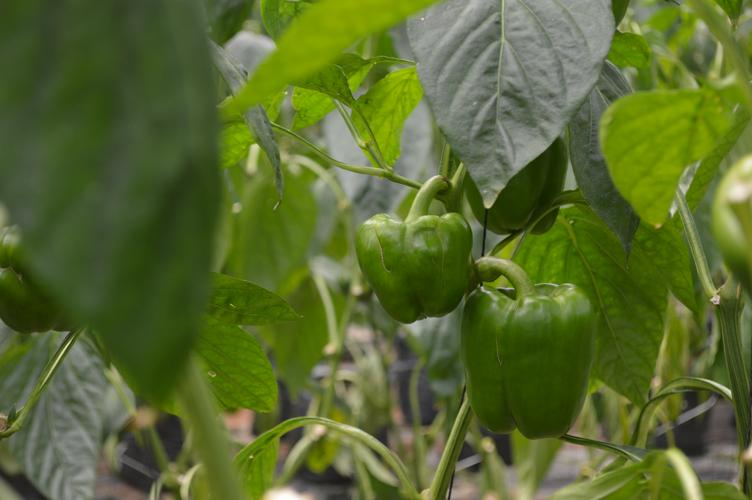BellPepper: (457, 278, 589, 441), (360, 214, 471, 329), (454, 131, 570, 241)
